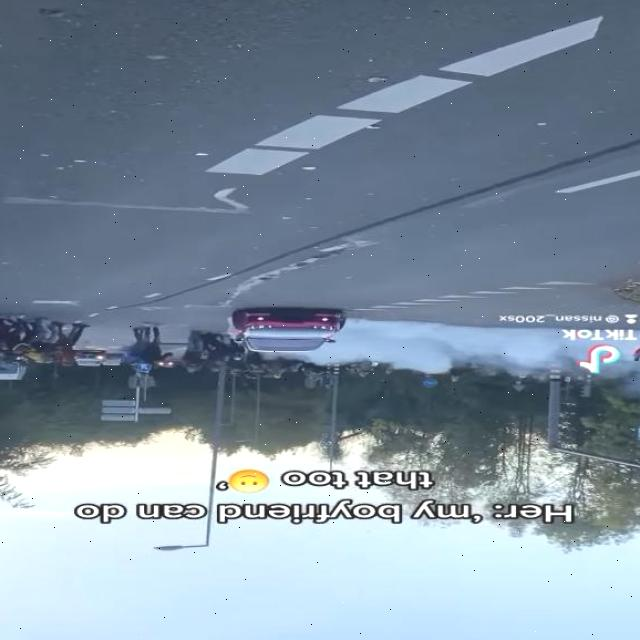car: (233, 307, 344, 355)
